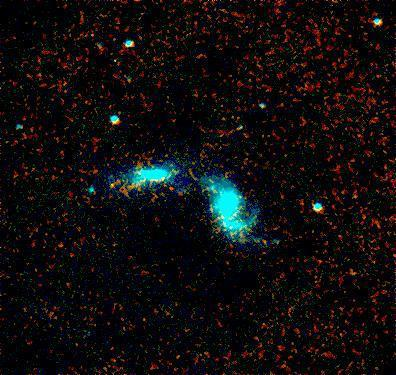star: (97, 170, 127, 200)
